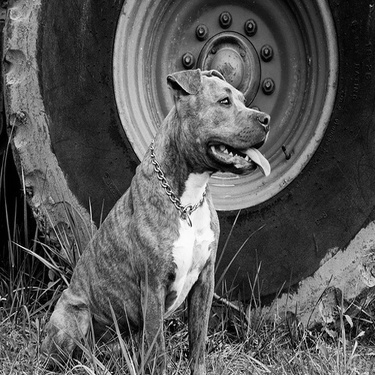dog: (42, 57, 280, 370)
